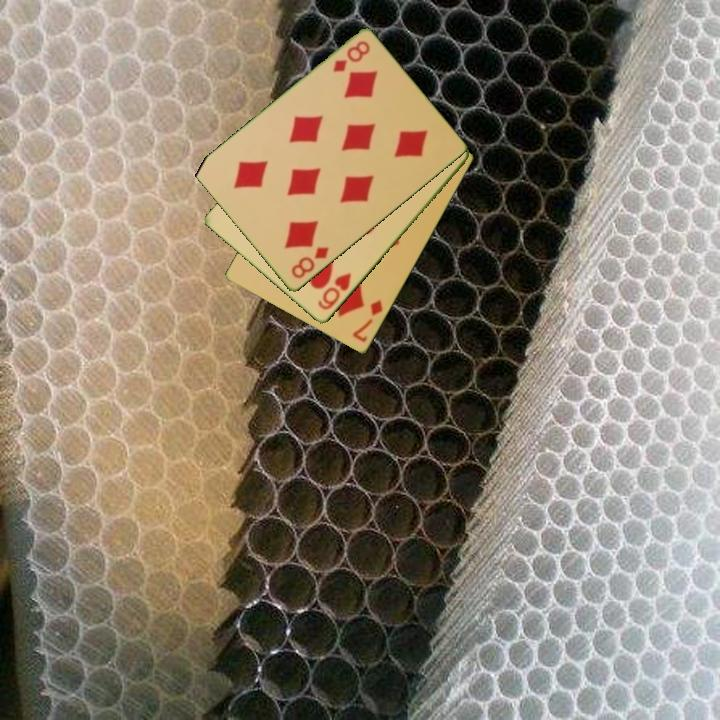6h: (314, 270, 354, 313)
7d: (349, 296, 386, 346)
8d: (288, 243, 332, 282), (329, 37, 373, 76)
